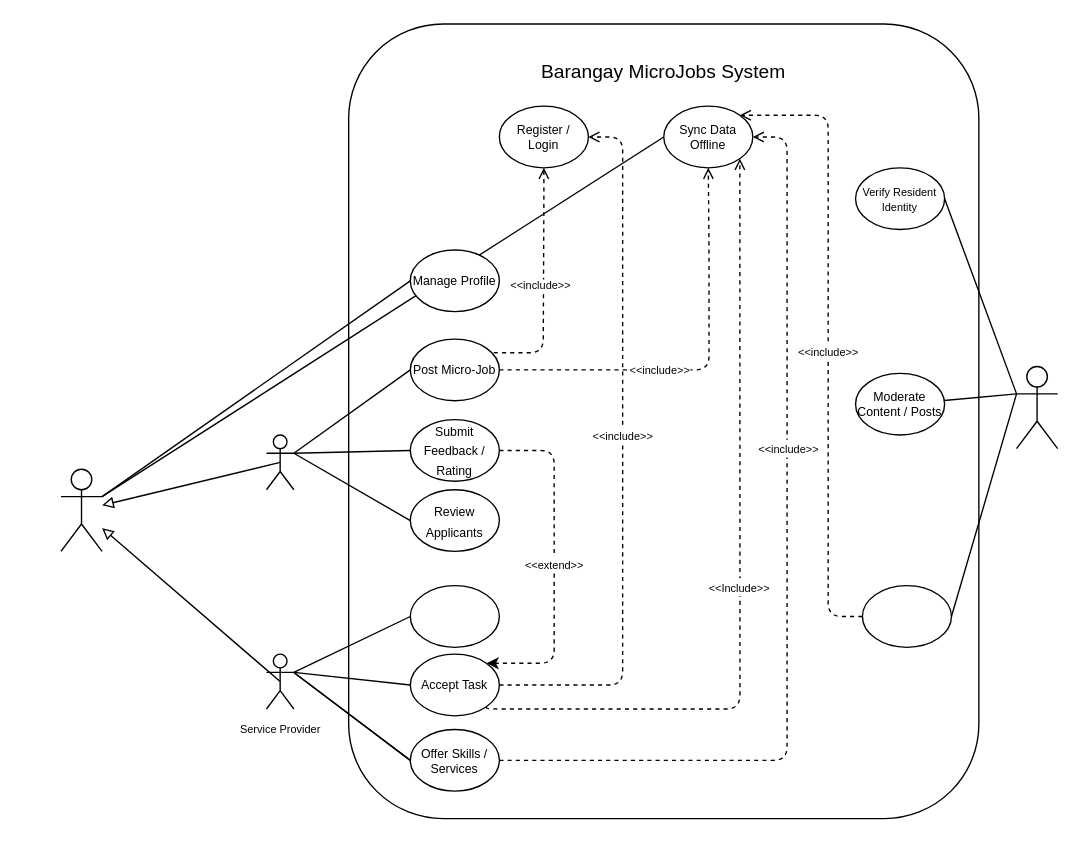
Some shapes in this 1082 by 843 pixel diagram are drawn without their labels. The centre of each missing label's shape, as x and y in pixels:
"Admin" belongs at pixel 1036 407.
"Barangay Resident" belongs at pixel 81 509.
"Browse Available Jobs" belongs at pixel 454 615.
"Generate System Reports" belongs at pixel 906 615.
"Job Poster" belongs at pixel 279 462.
